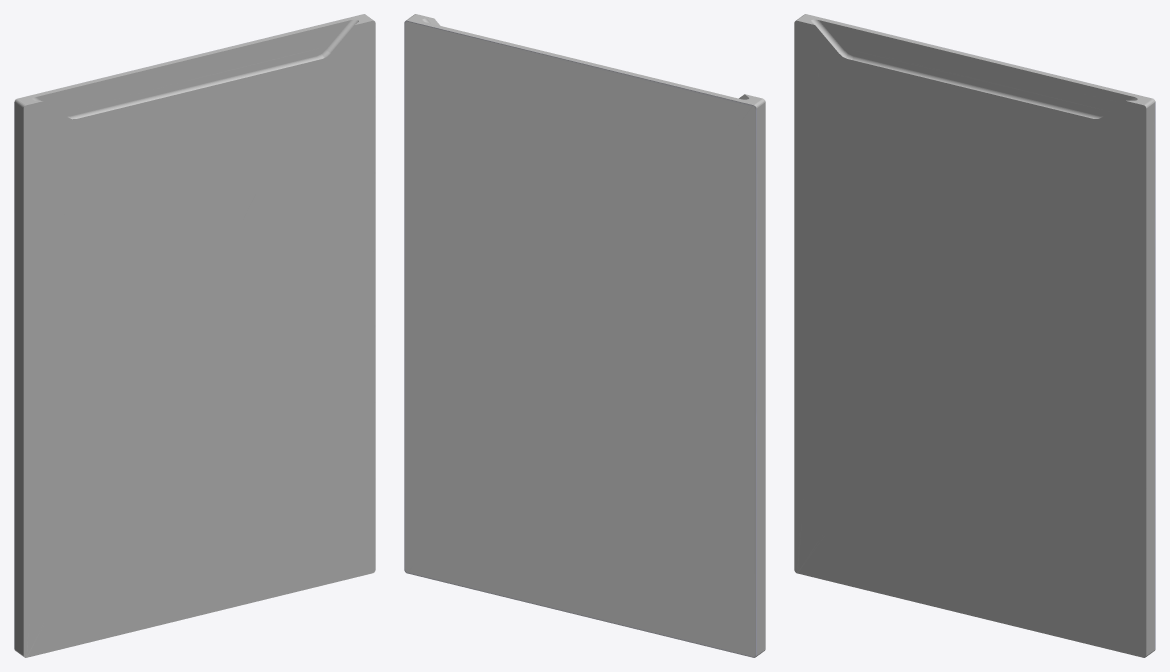
The picture shows the model from 3 angles, left to right: view 1: azimuth 30°, elevation 25°; view 2: azimuth 150°, elevation 25°; view 3: azimuth 330°, elevation 25°; orthographic projection.
Visible parts, largest first — view 1: node_id3; view 2: node_id3; view 3: node_id3.
Part boxes in pixels (<box>): node_id3: <box>14,14,375,657</box>; node_id3: <box>404,14,765,657</box>; node_id3: <box>794,14,1155,657</box>.
Size of the model in its own units: 0.512 by 0.768 by 0.0232.
1 material, 1 textured.
